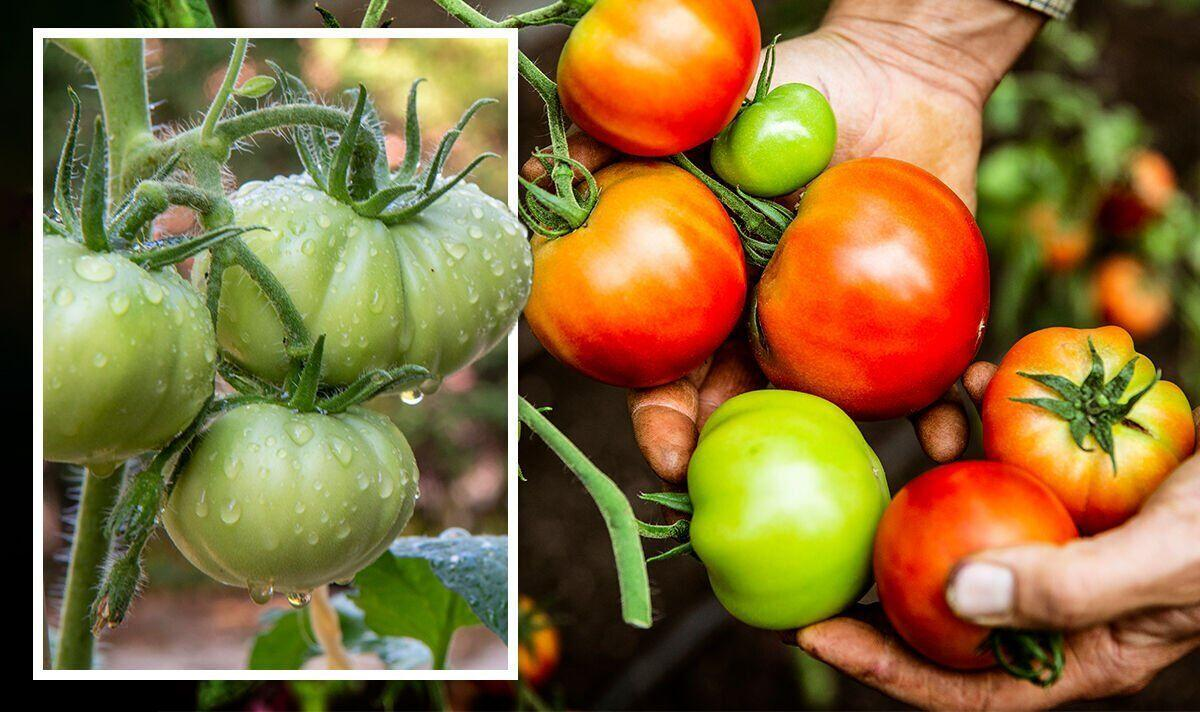healthy-tomato: (747, 159, 994, 426), (523, 159, 757, 393), (871, 455, 1124, 648)
